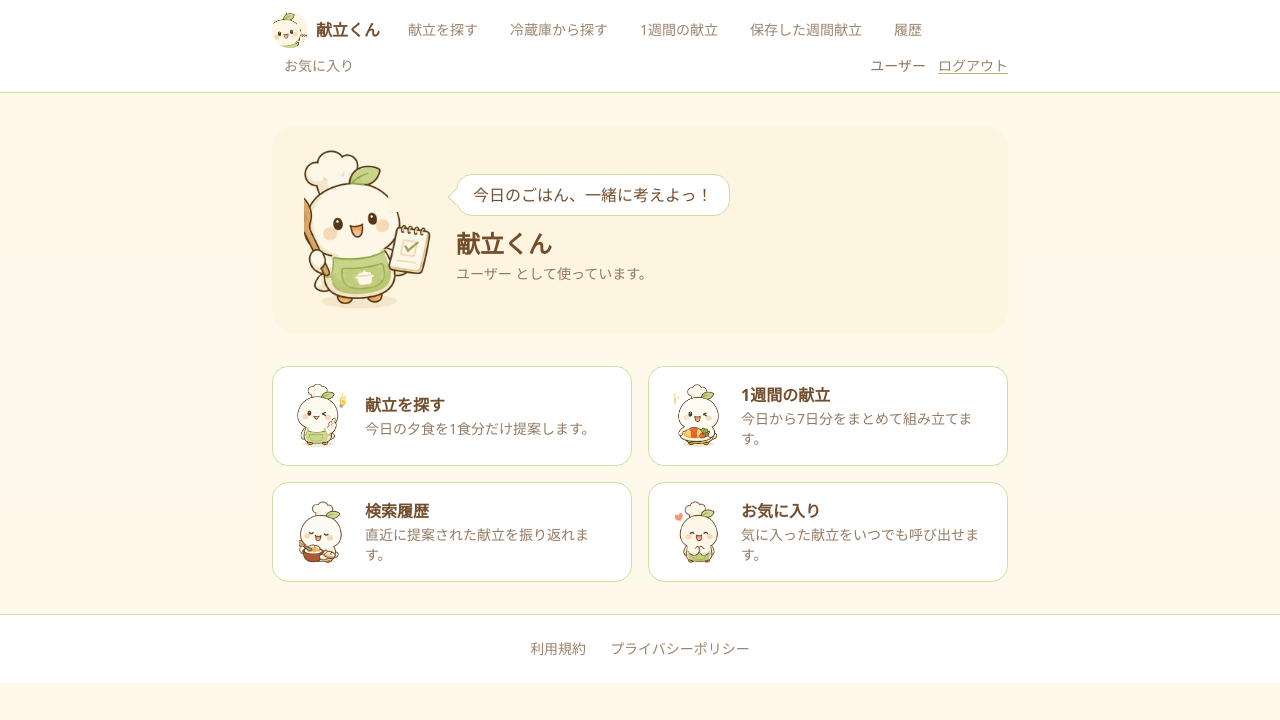
App › ヘッダのリンクで履歴へ遷移できる
Click the link "履歴": (908,30) [894,20,922,39]
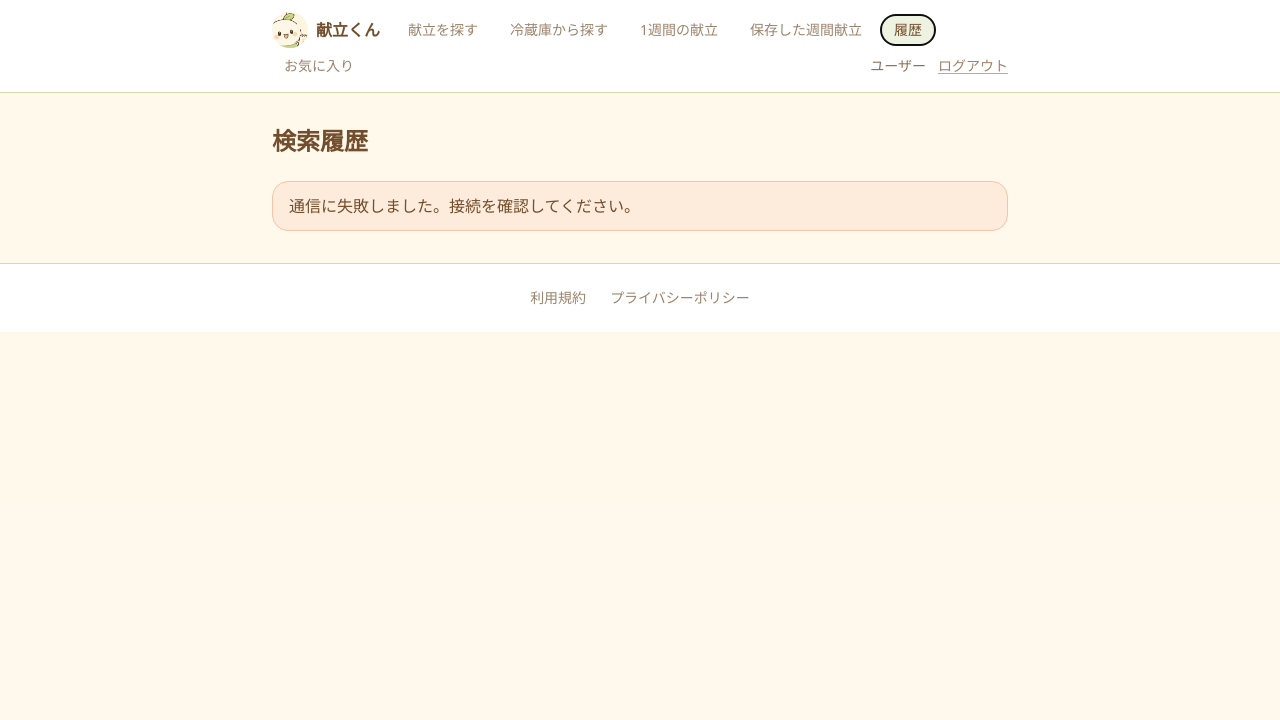
Expected: the heading "検索履歴" is shown, [272,125,368,157]
